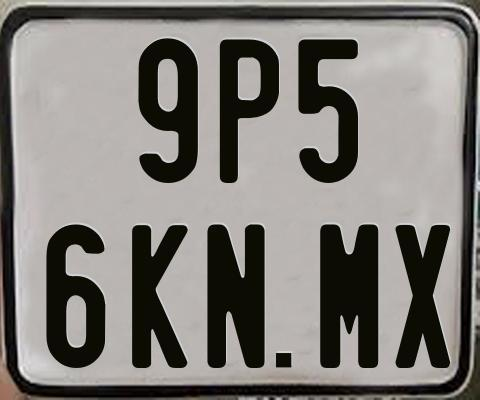5: (295, 39, 359, 183)
6: (45, 224, 104, 370)
9: (136, 36, 197, 186)
K: (129, 224, 190, 368)
M: (319, 222, 382, 367)
N: (206, 222, 268, 368)
P: (217, 37, 277, 187)
X: (395, 223, 450, 368)
